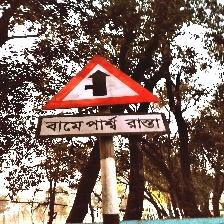Side-road-left: (38, 55, 166, 140)
